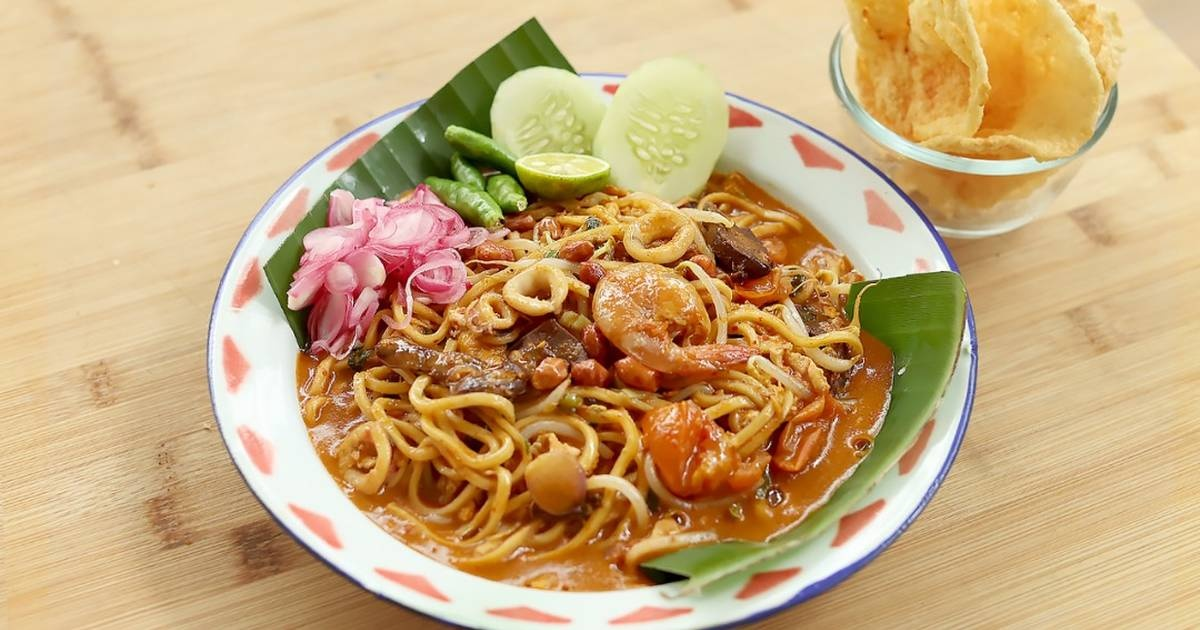mie_aceh: (307, 205, 879, 577)
